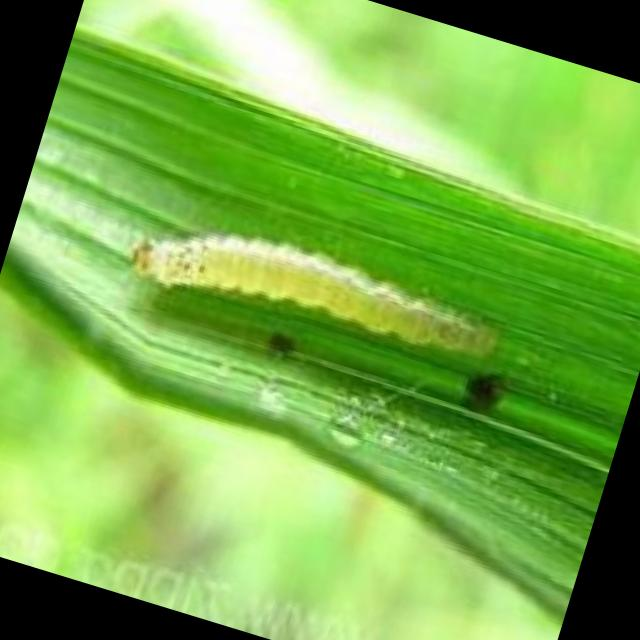leaf-folder: (106, 166, 527, 426)
